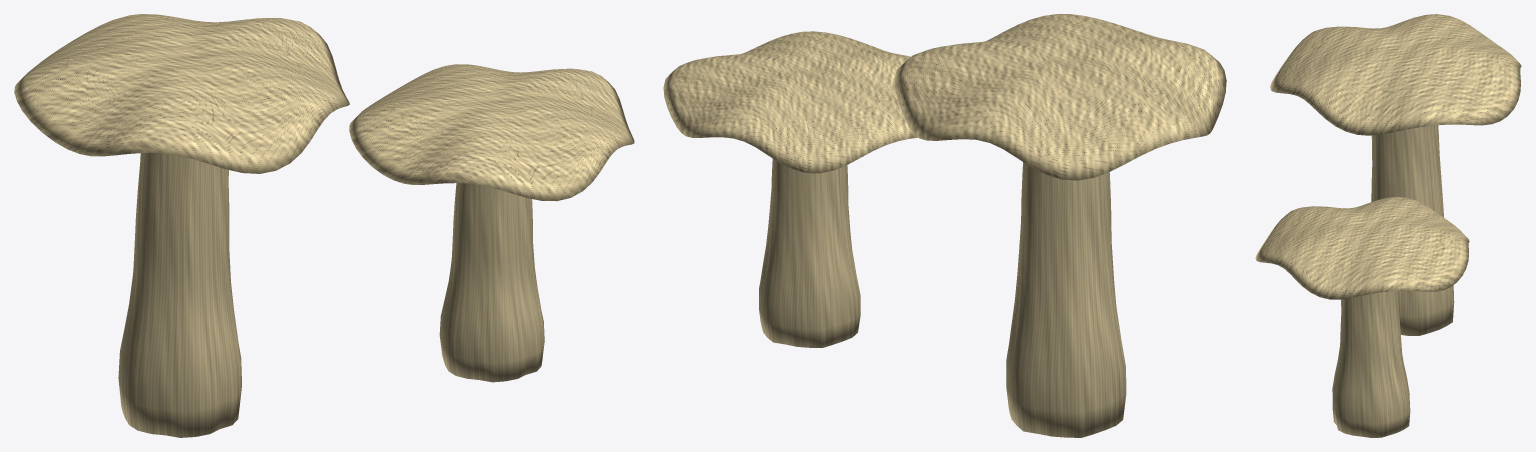
File: ivory.glb
3 renders of one model, left to right at view 1: azimuth 30°, elevation 25°; view 2: azimuth 150°, elevation 25°; view 3: azimuth 270°, elevation 25°, orthographic. The views are drawn at different scales.
Parts seen in each view (by area): view 1: Ivory_01, Ivory_02; view 2: Ivory_01, Ivory_02; view 3: Ivory_01, Ivory_02.
Boxes of the visible parts, <box> form: Ivory_01: <box>14,14,349,437</box>; Ivory_02: <box>349,64,634,382</box>; Ivory_01: <box>894,14,1226,437</box>; Ivory_02: <box>663,31,917,347</box>; Ivory_01: <box>1270,14,1521,335</box>; Ivory_02: <box>1255,196,1469,437</box>.
Size of the model in its own units: 0.2089 by 0.1294 by 0.1149.
3 materials, 3 textured.
